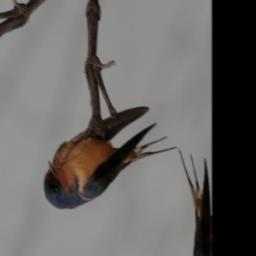Swallow: (34, 62, 182, 256)
